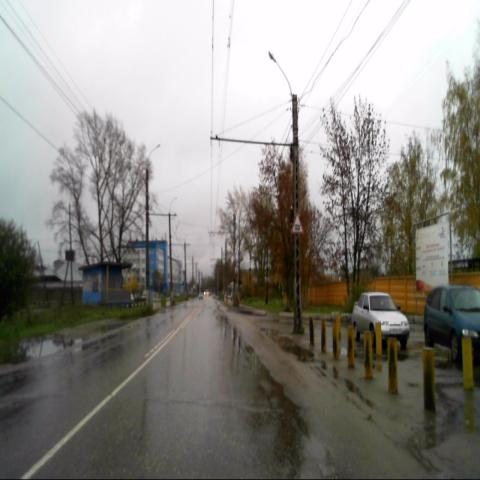1_1: (290, 212, 304, 234)
